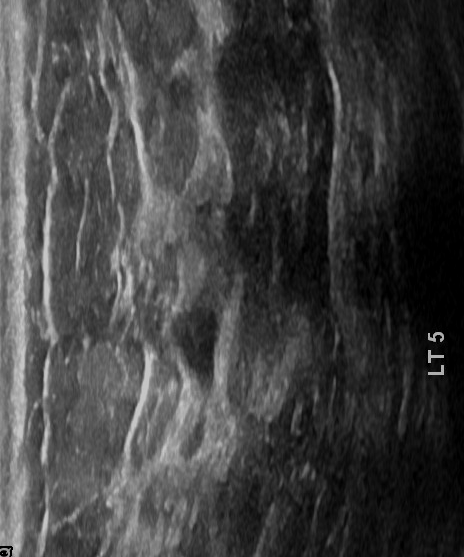Normal: (16, 1, 442, 554)
